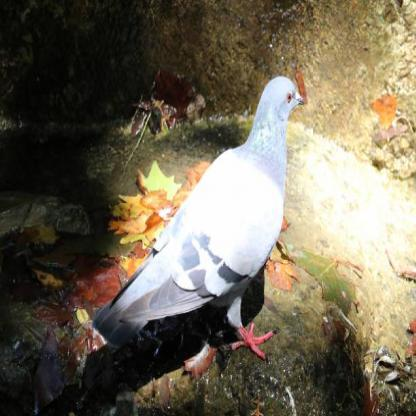Flying Rat: (94, 72, 310, 366)
